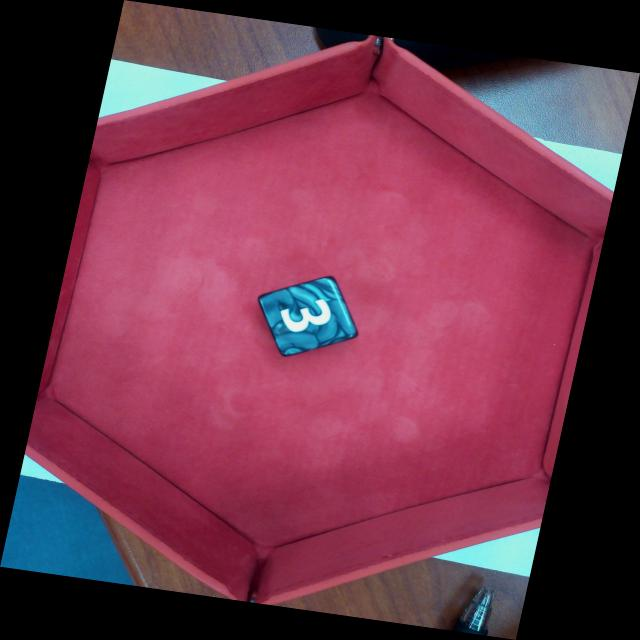dice: (253, 274, 361, 357)
